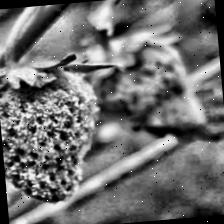Powdery Mildew Fruit: (0, 56, 105, 207), (82, 29, 204, 143)
